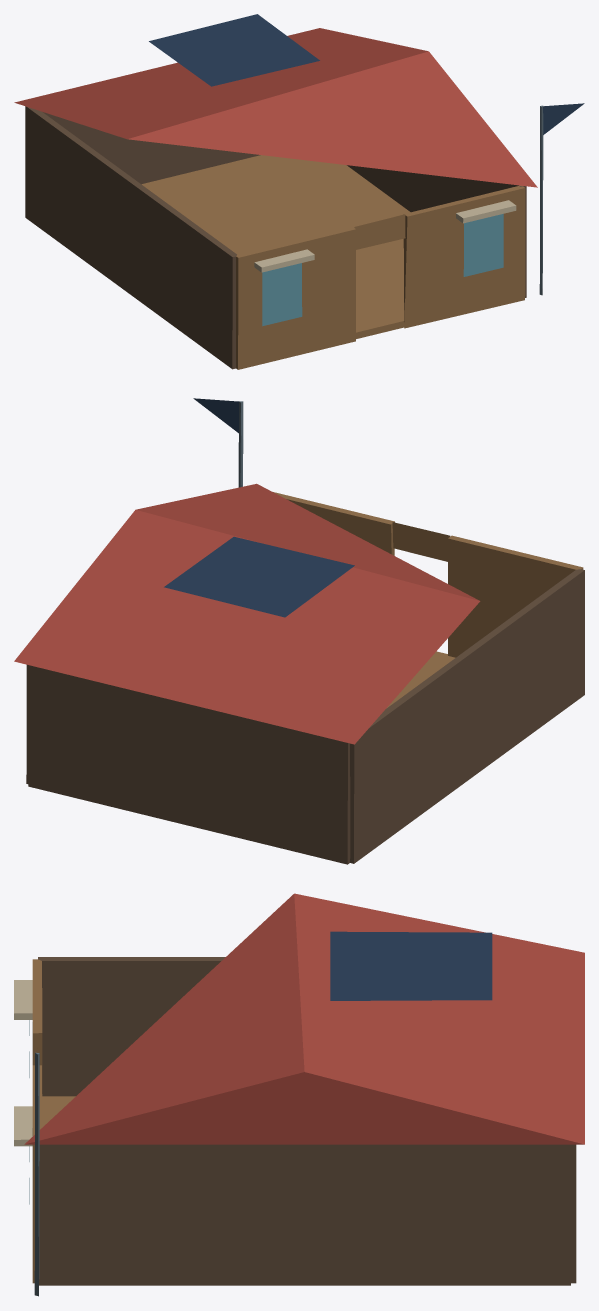
File: harbor-naval-quarters.lod2.glb
3 renders of one model, top to bottom at view 1: azimuth 30°, elevation 25°; view 2: azimuth 150°, elevation 25°; view 3: azimuth 270°, elevation 25°, orthographic. The views are drawn at different scales.
Visible parts, largest first — view 1: harbor-naval-quarters__body, harbor-naval-quarters__roof, harbor-naval-quarters__front-wall; view 2: harbor-naval-quarters__body, harbor-naval-quarters__roof, harbor-naval-quarters__front-wall; view 3: harbor-naval-quarters__roof, harbor-naval-quarters__body, harbor-naval-quarters__front-wall.
Boxes of the visible parts, <box> form: harbor-naval-quarters__body: <box>25,103,584,369</box>; harbor-naval-quarters__roof: <box>14,14,537,187</box>; harbor-naval-quarters__front-wall: <box>236,185,525,369</box>; harbor-naval-quarters__body: <box>26,398,584,864</box>; harbor-naval-quarters__roof: <box>14,483,480,744</box>; harbor-naval-quarters__front-wall: <box>273,492,583,657</box>; harbor-naval-quarters__roof: <box>24,893,584,1144</box>; harbor-naval-quarters__body: <box>14,957,576,1296</box>; harbor-naval-quarters__front-wall: <box>32,959,42,1283</box>.
Bounding box in the file's own units: 9.95 × 5.02 × 10.69.
